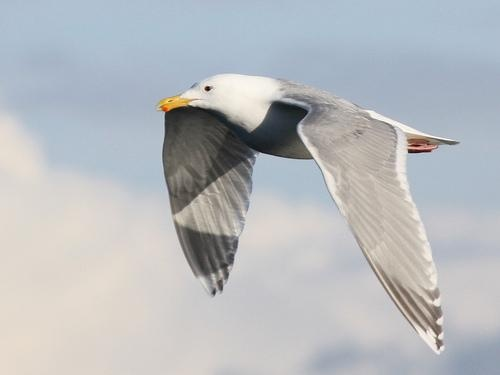bird: (157, 72, 456, 356)
